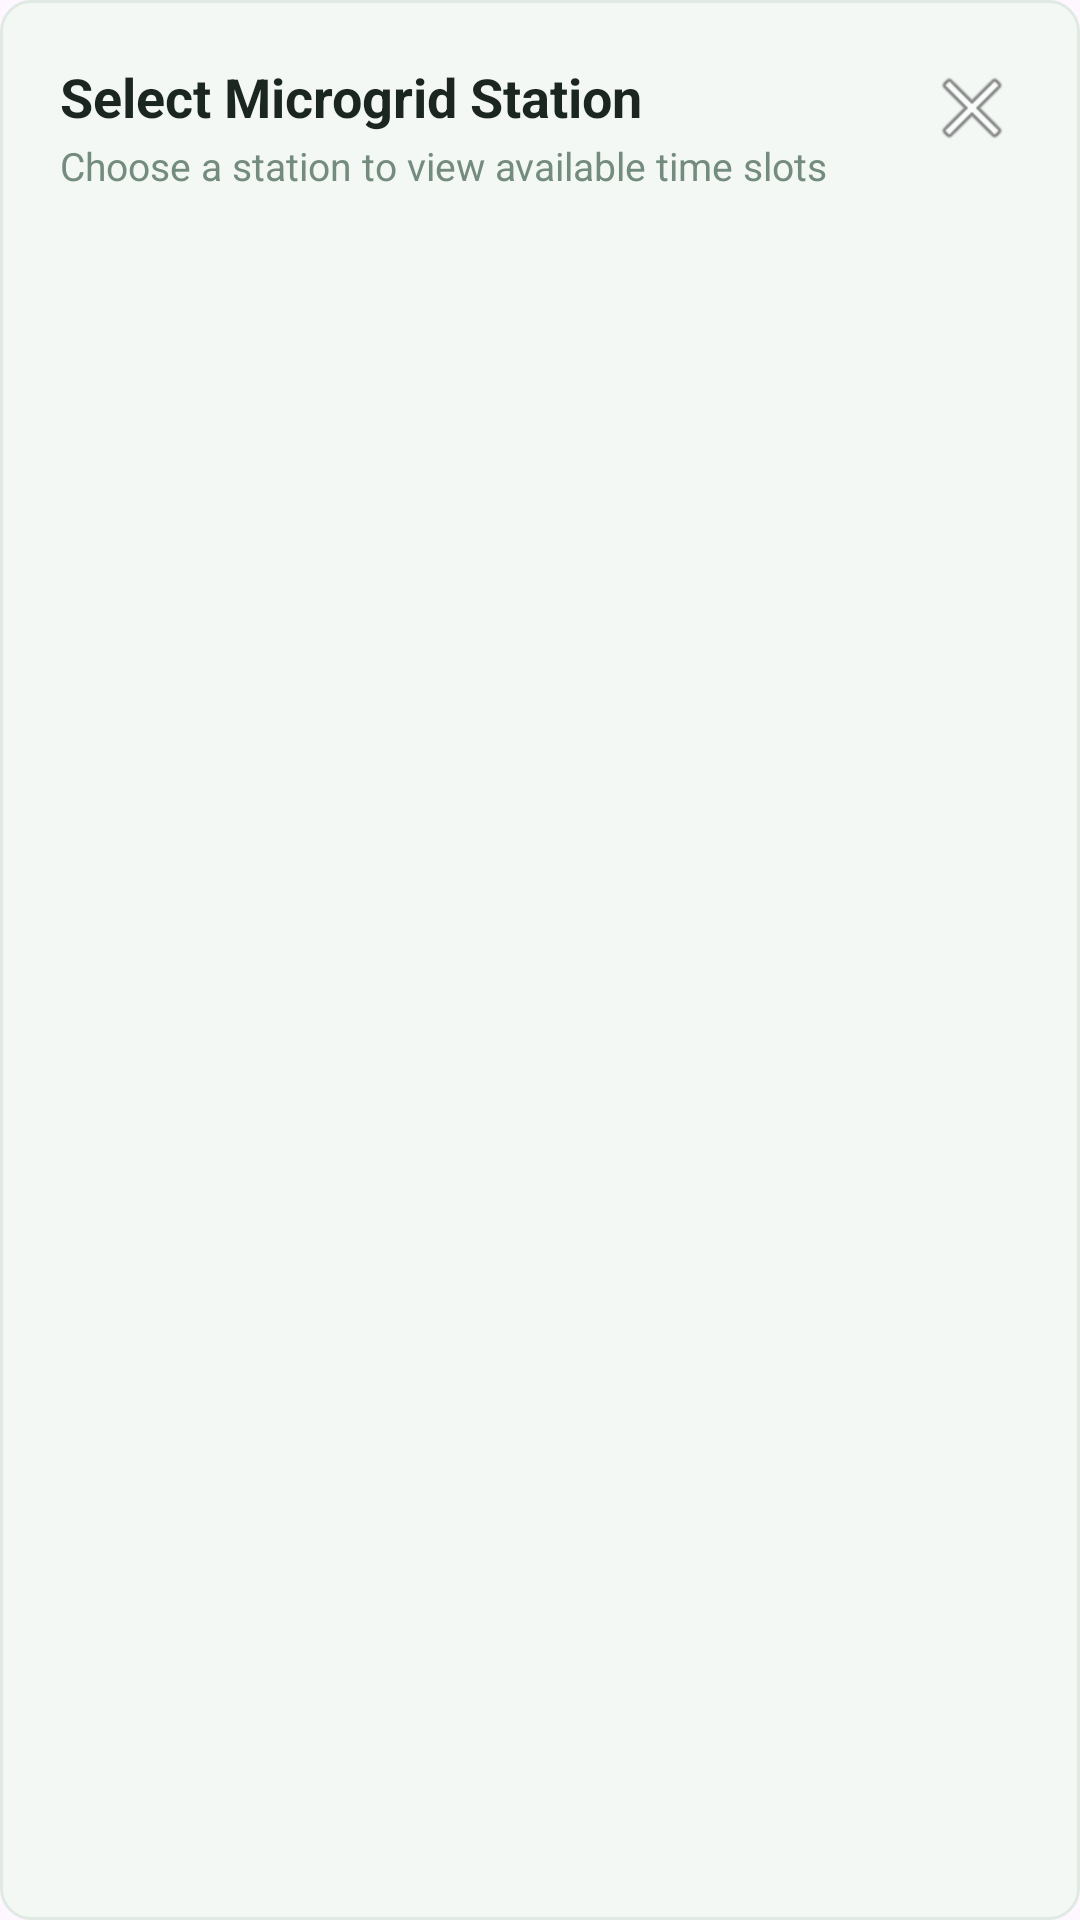

Icon bounding boxes for this 1080w x 1920h phone screenshot, format bbox=[x1, y1, x2, y2]:
Close Dialog: bbox=[942, 78, 1002, 138]
